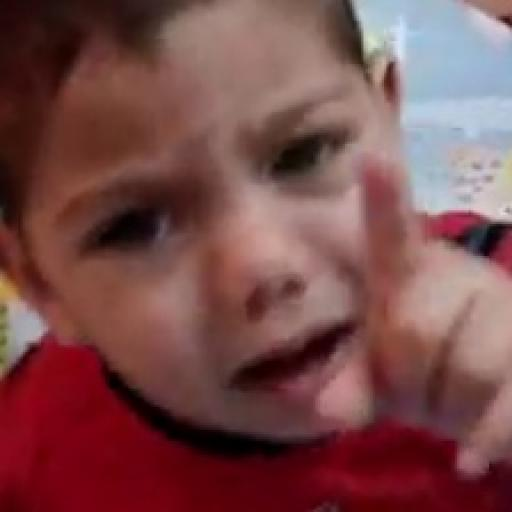Autism: (27, 14, 487, 456)
